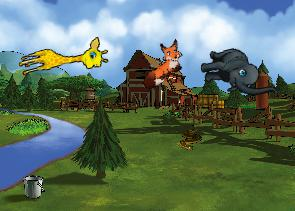elephant: (197, 39, 277, 109)
fox: (130, 35, 192, 92)
giraffe: (16, 35, 110, 86)
